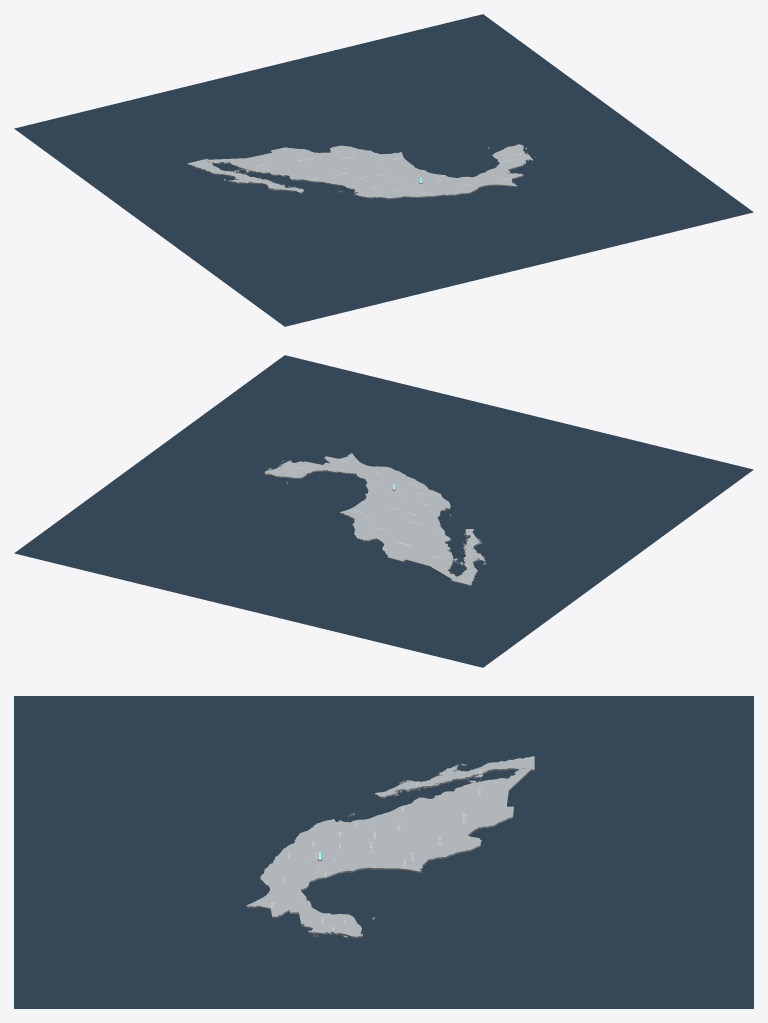
Rendered from mapa_mexico.glb.
3 views of the same model, one above another, from view 1: azimuth 30°, elevation 25°; view 2: azimuth 150°, elevation 25°; view 3: azimuth 270°, elevation 25° (orthographic). The views are drawn at different scales.
Visible parts, largest first — view 1: MX_Mar, EDO_08, EDO_26, EDO_05, EDO_10; view 2: MX_Mar, EDO_08, EDO_26, EDO_05, EDO_10; view 3: MX_Mar, EDO_08, EDO_26, EDO_05, EDO_10, EDO_28, EDO_20, EDO_03, EDO_02, EDO_30, EDO_07, EDO_14 (+8 smaller).
Part boxes in pixels (<box>): MX_Mar: <box>14,14,753,326</box>; EDO_08: <box>267,147,337,174</box>; EDO_26: <box>207,153,293,177</box>; EDO_05: <box>328,145,376,169</box>; EDO_10: <box>313,163,361,183</box>; MX_Mar: <box>14,355,753,667</box>; EDO_08: <box>377,530,435,562</box>; EDO_26: <box>410,541,459,579</box>; EDO_05: <box>353,515,400,541</box>; EDO_10: <box>392,513,434,535</box>; MX_Mar: <box>14,696,753,1008</box>; EDO_08: <box>415,800,513,835</box>; EDO_26: <box>428,768,530,804</box>; EDO_05: <box>398,830,481,856</box>; EDO_10: <box>364,811,434,839</box>; EDO_28: <box>362,853,447,872</box>; EDO_20: <box>260,864,306,893</box>; EDO_03: <box>375,764,459,798</box>; EDO_02: <box>456,756,534,781</box>; EDO_30: <box>285,863,365,895</box>; EDO_07: <box>245,892,299,918</box>; EDO_14: <box>310,819,369,844</box>.
Bounding box in the file's own units: 5200 × 72.5 × 5200.
